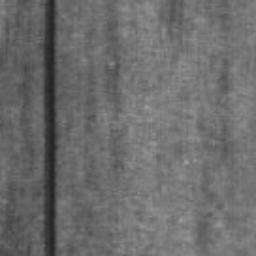Scratches: (43, 0, 56, 256)
